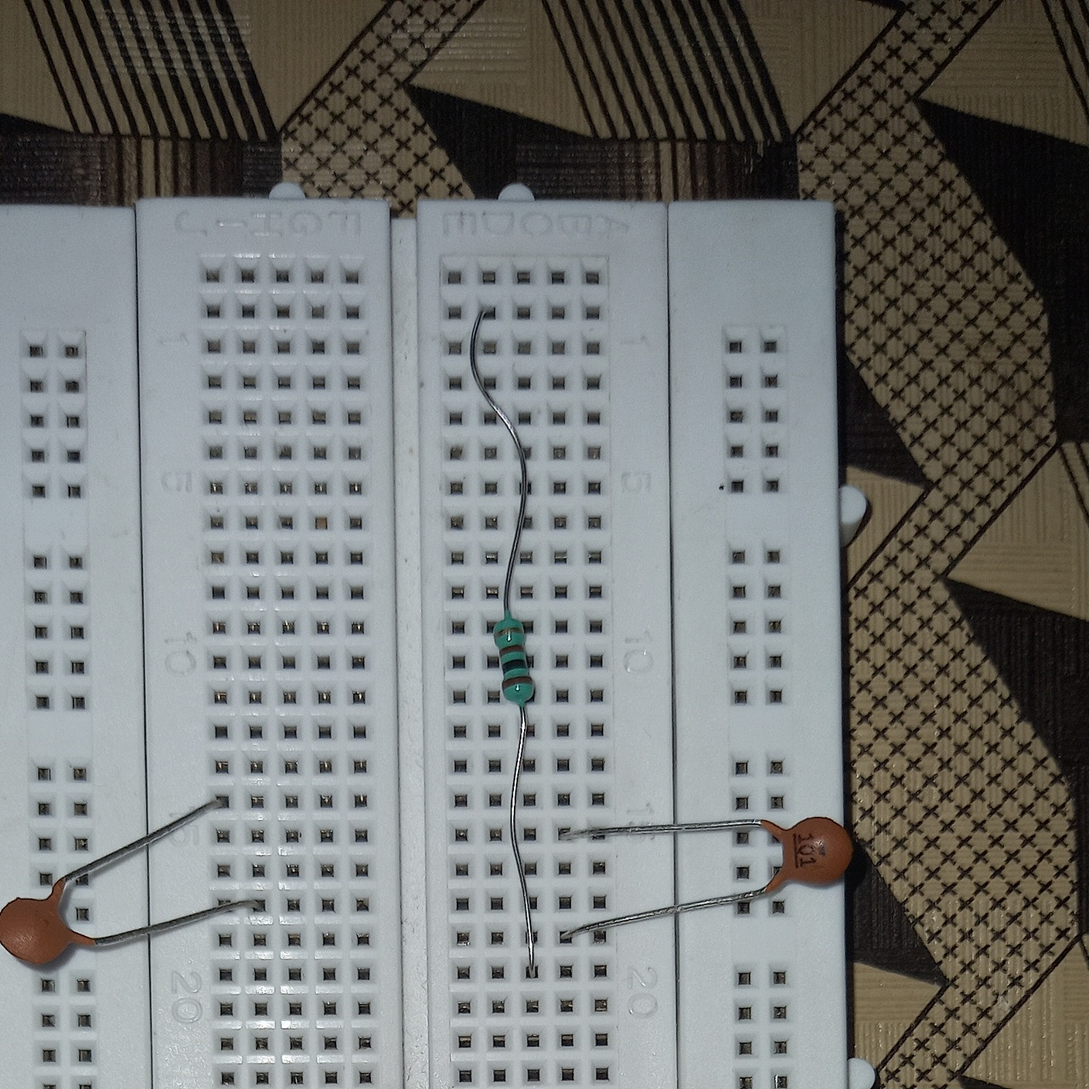capacitor: (0, 888, 80, 967), (781, 818, 856, 885)
resistor: (491, 613, 546, 707)
